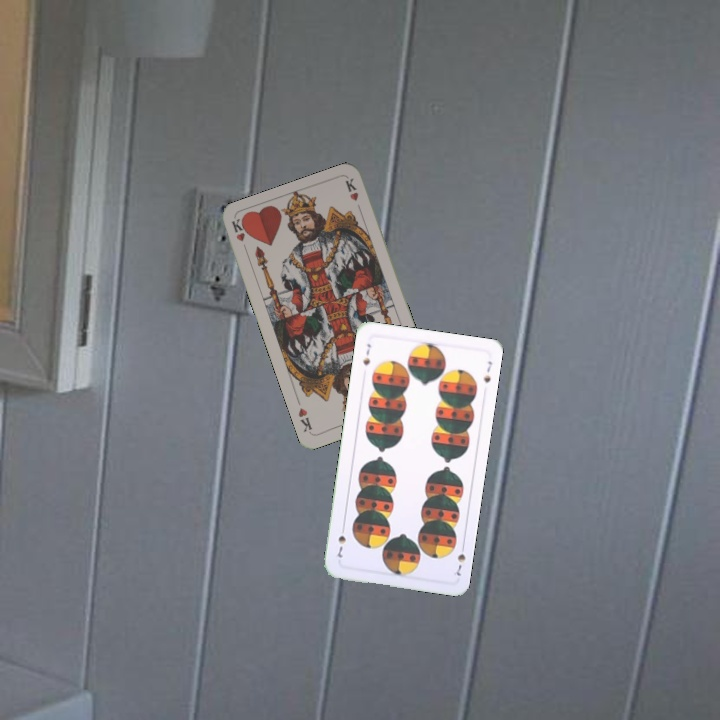HK: (227, 215, 250, 256)
S7: (452, 550, 468, 578), (359, 340, 373, 368)
